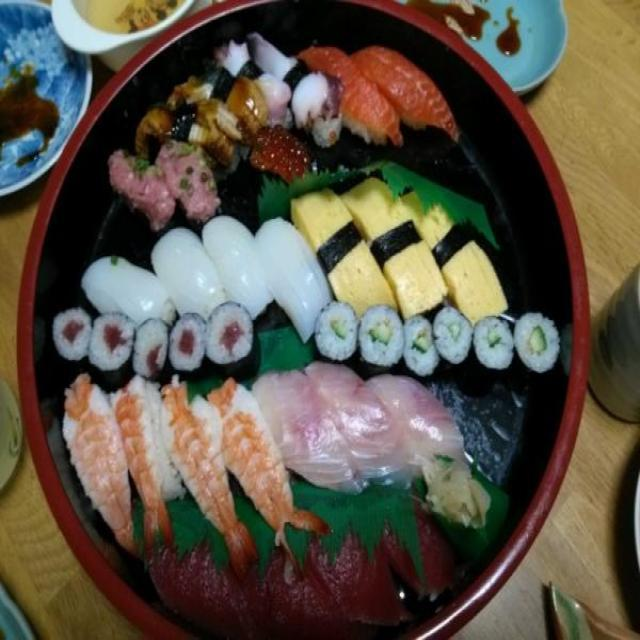Sushi: (59, 31, 554, 558)
